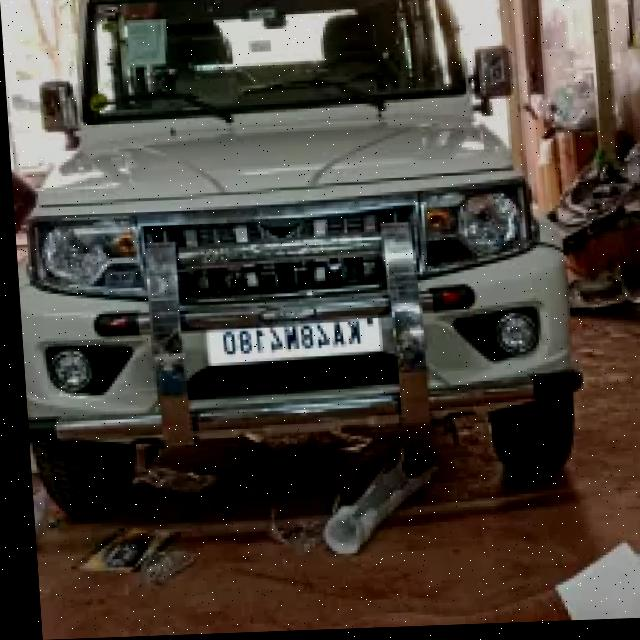plate: (198, 312, 384, 368)
